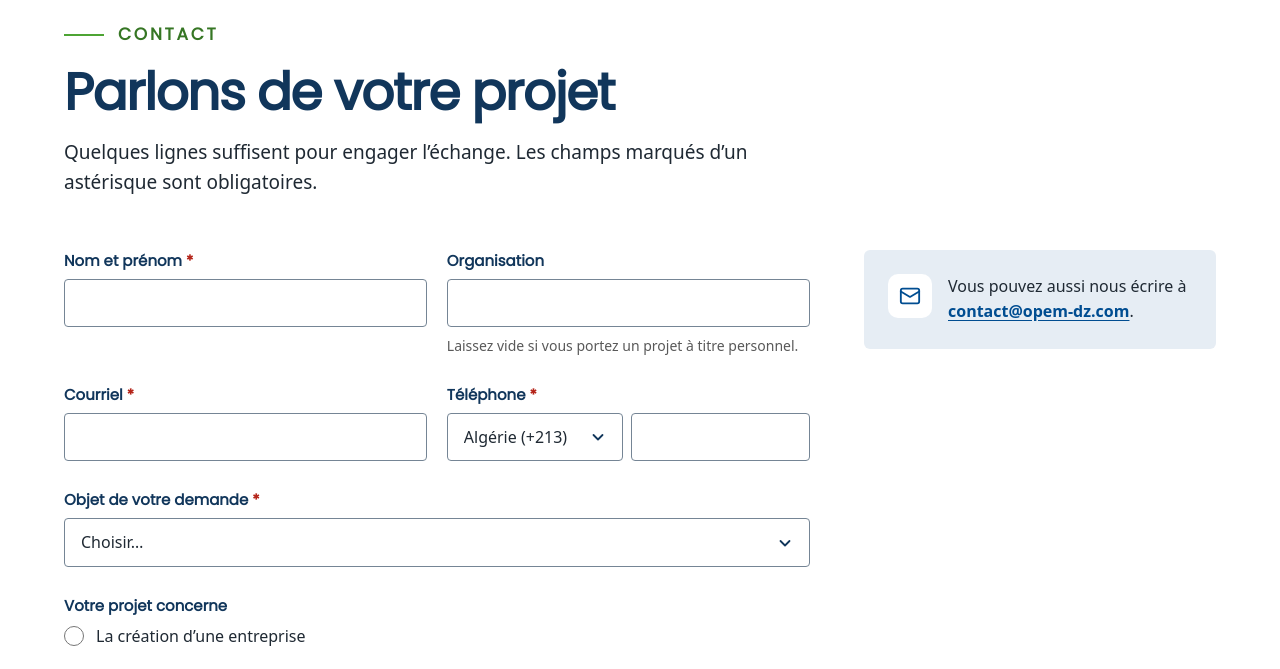
Formulaire 1 : demande de rendez-vous › « Autre demande » ouvre un champ libre ; un jour sans heure est signalé
The image size is (1280, 669).
Select "Autre demande (à préciser)" in the dropdown labelled "Objet de votre demande*" at x=437, y=543, box 64,518 -> 810,567
(page scrolled)
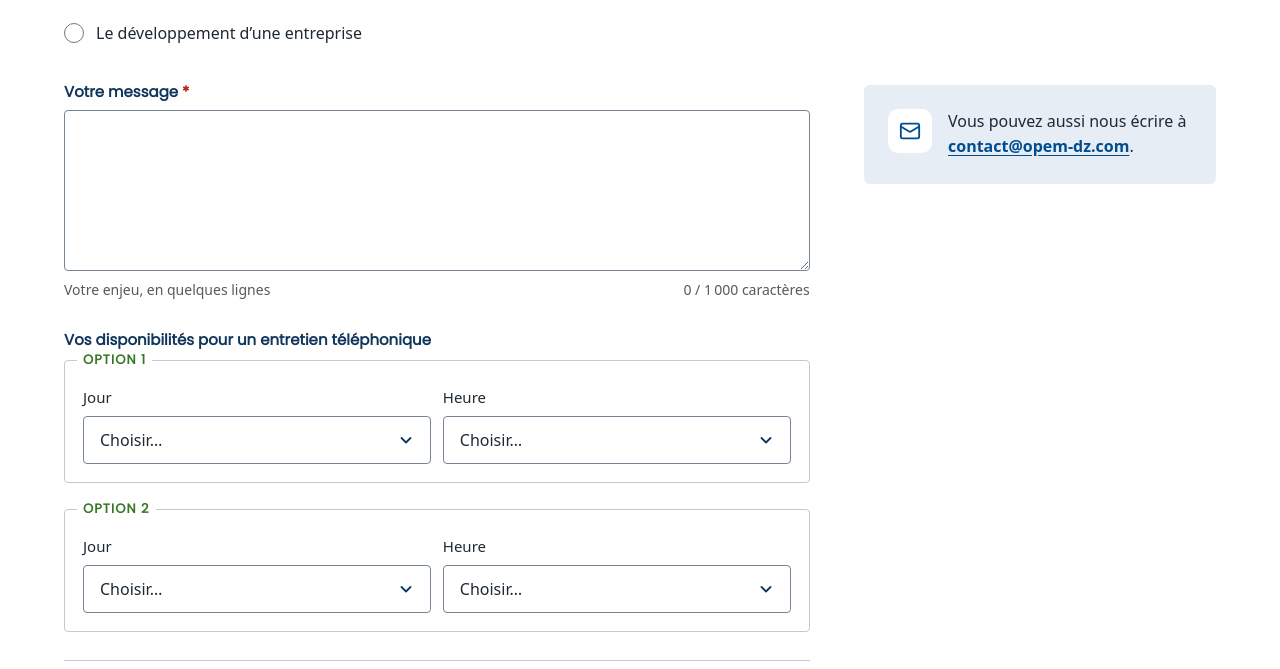
Select "Lundi" in the dropdown labelled "Jour" below "Option 1" at x=257, y=440, box 83,416 -> 431,464
(page scrolled)
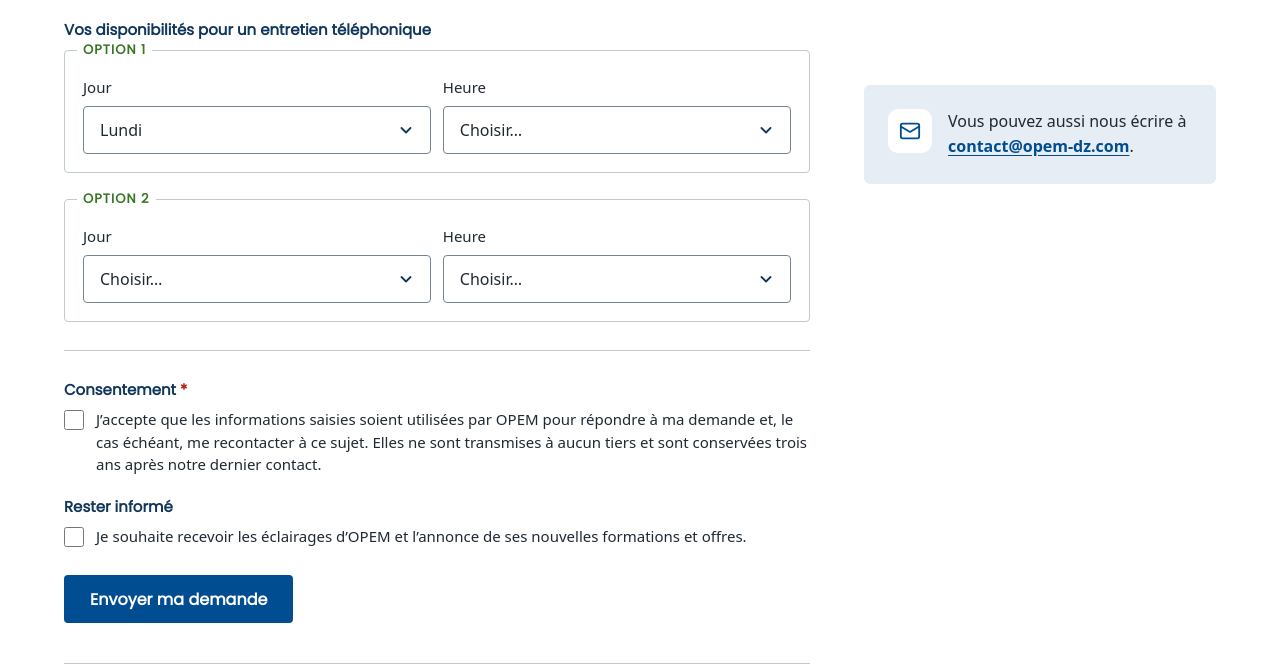
Click the button "Envoyer ma demande" at x=179, y=599, box 64,575 -> 293,623
(page scrolled)
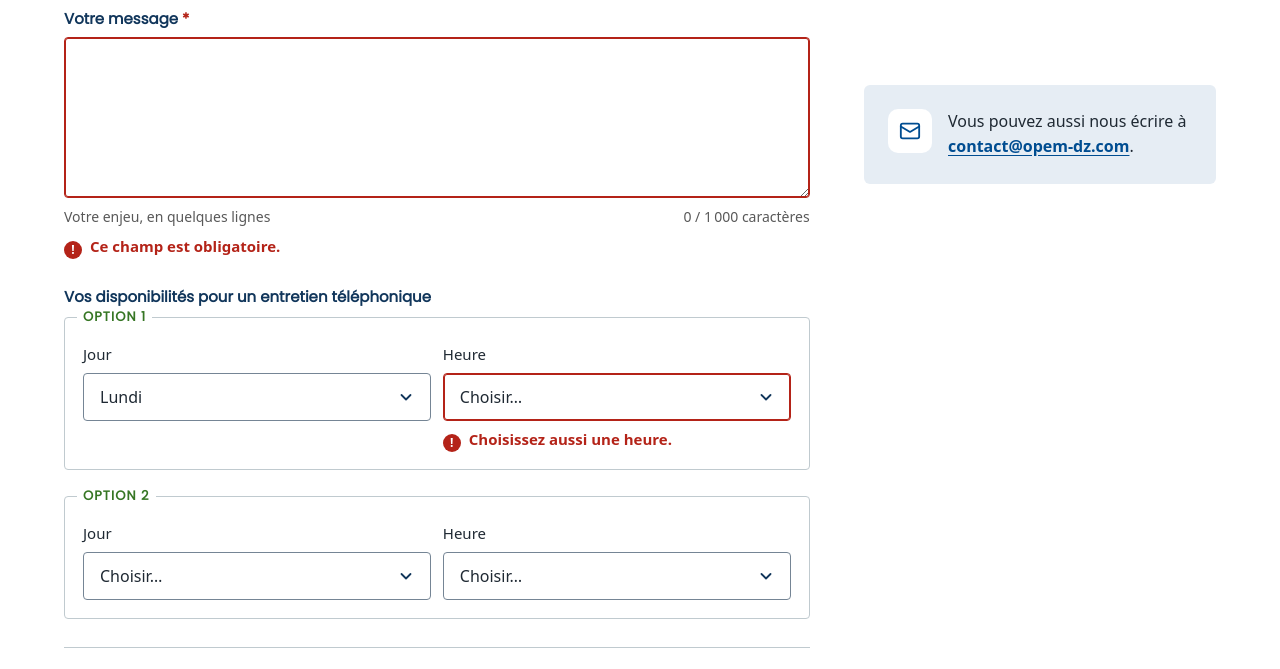
Check: the text "Choisissez aussi une heure." is shown, box 469,429 -> 672,449
